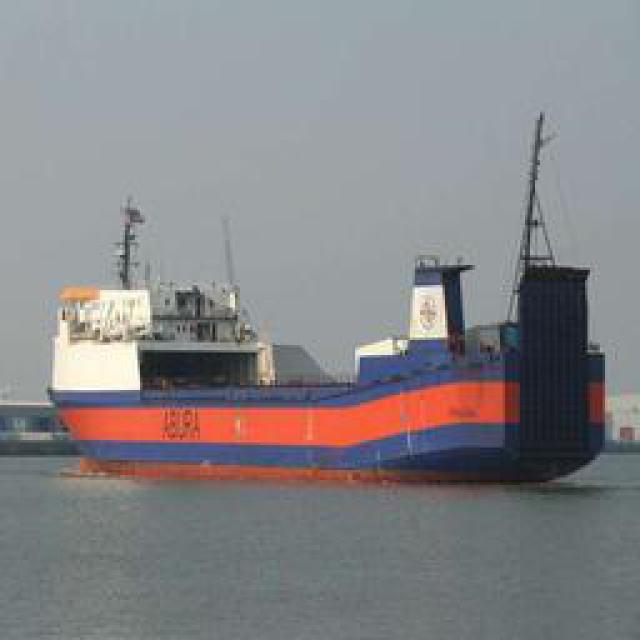Ship: (39, 199, 612, 479)
